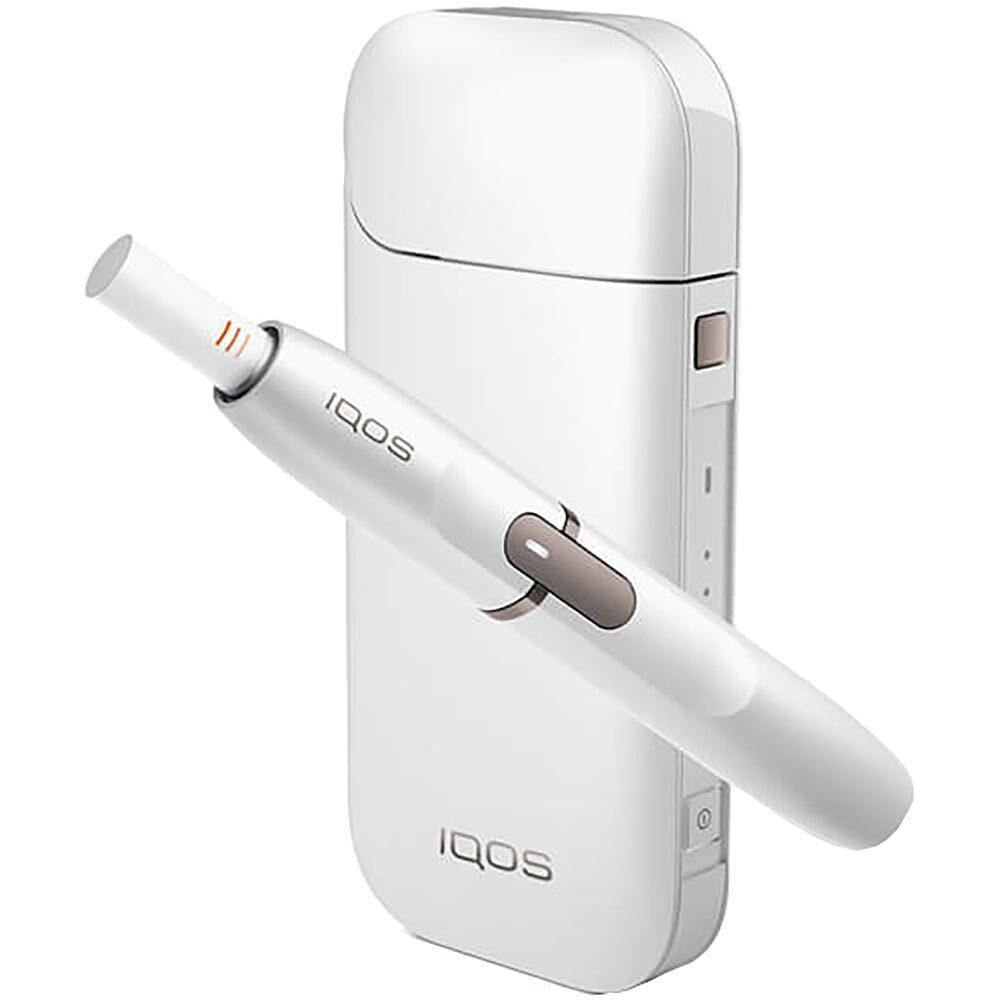iqos: (87, 235, 908, 842)
